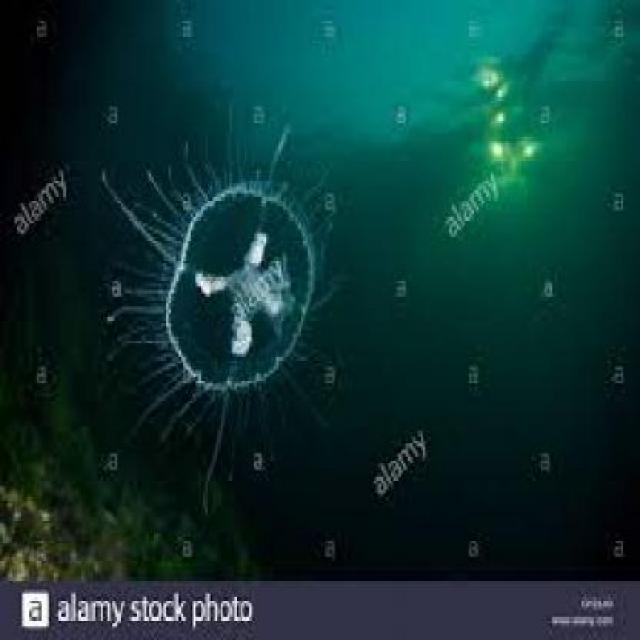Jellyfish: (94, 99, 334, 510)
